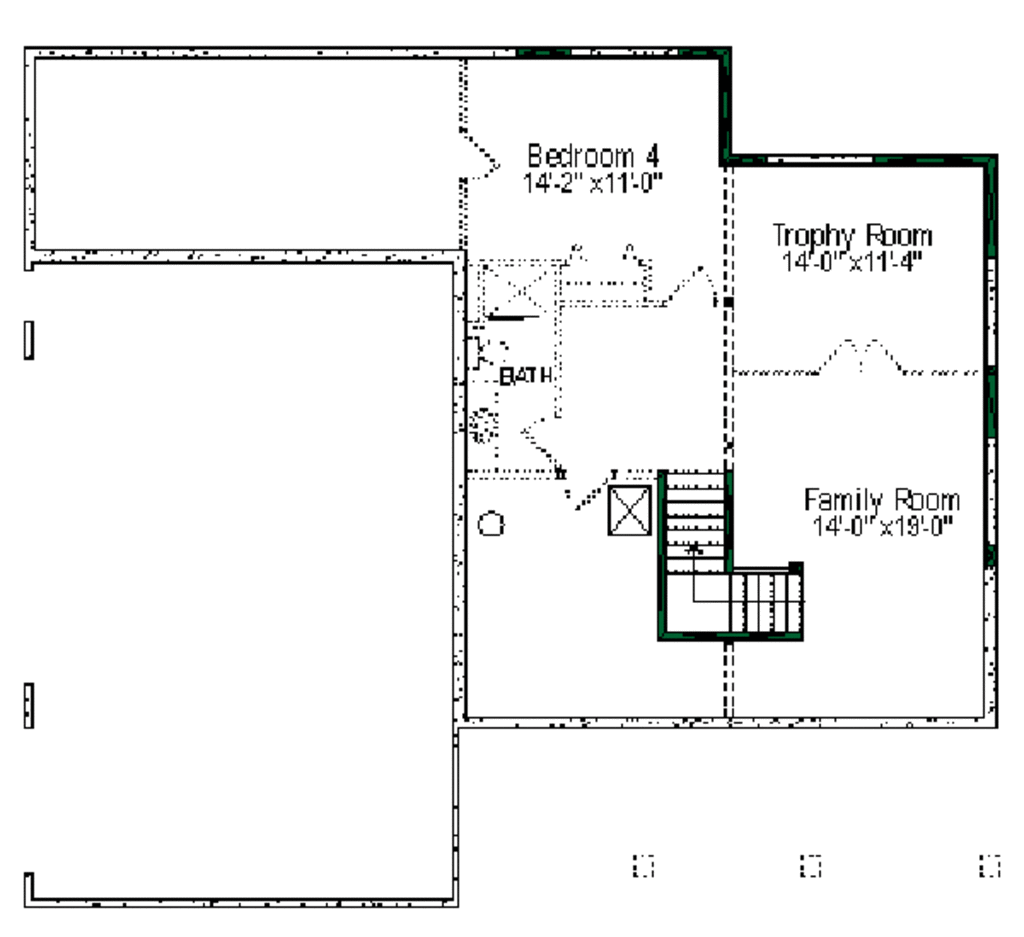door: (819, 337, 906, 375)
stairs: (654, 463, 807, 647)
